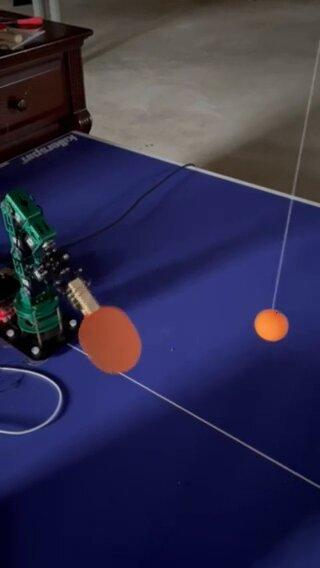oball: (255, 308, 288, 340)
